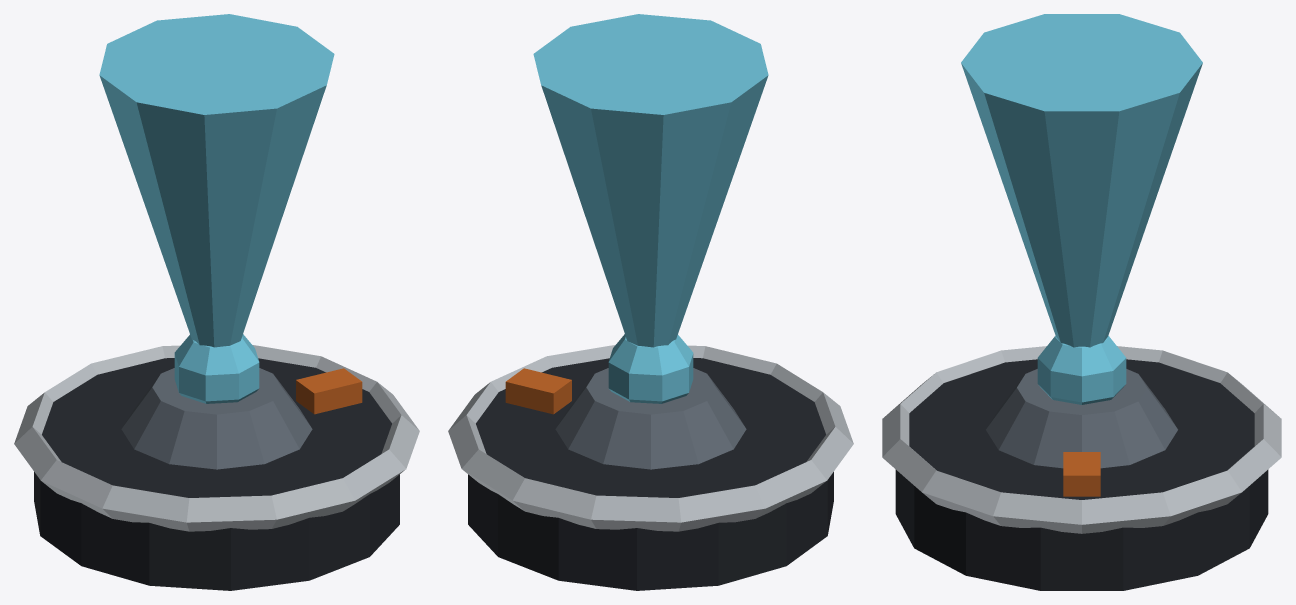
The model's file is holocomm.glb.
3 views of the same model, side by side, from view 1: azimuth 30°, elevation 25°; view 2: azimuth 150°, elevation 25°; view 3: azimuth 270°, elevation 25° (orthographic).
Visible parts, largest first — view 1: m; view 2: m; view 3: m.
Boxes of the visible parts, x1,y1,x2,y2 form: m: [14, 14, 419, 590]; m: [448, 14, 853, 590]; m: [882, 14, 1281, 590].
Size of the model in its own units: 0.0823 by 0.1 by 0.0802.
